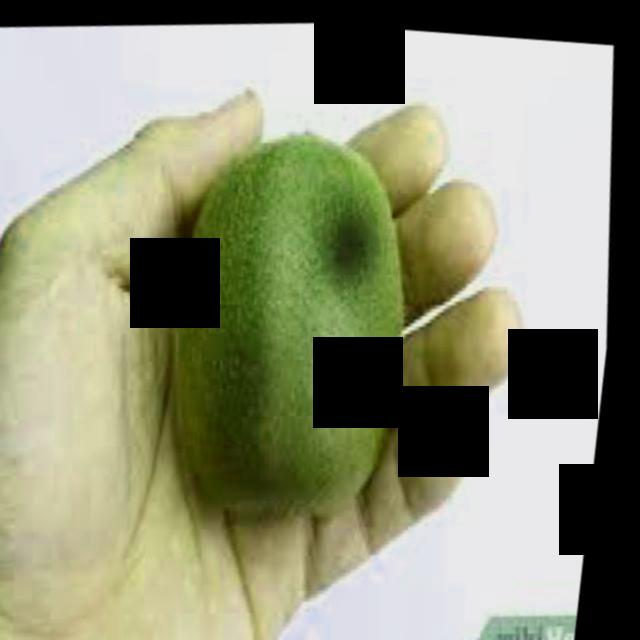kiwi: (147, 112, 440, 523)
